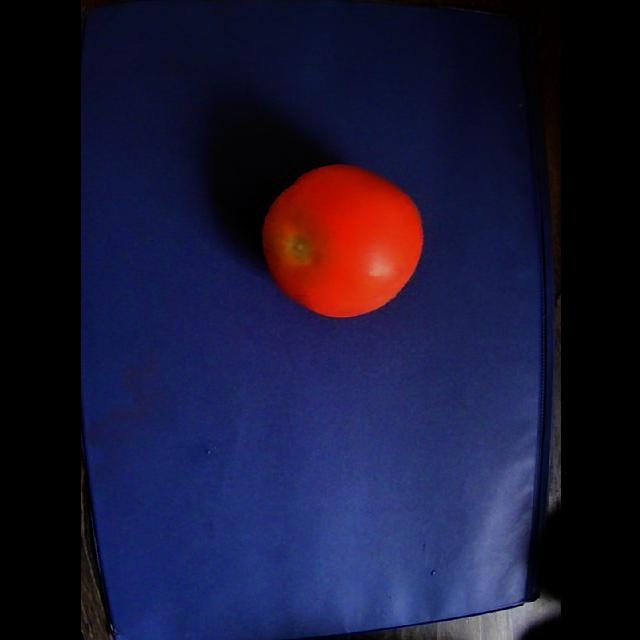tomate: (262, 164, 422, 316)
